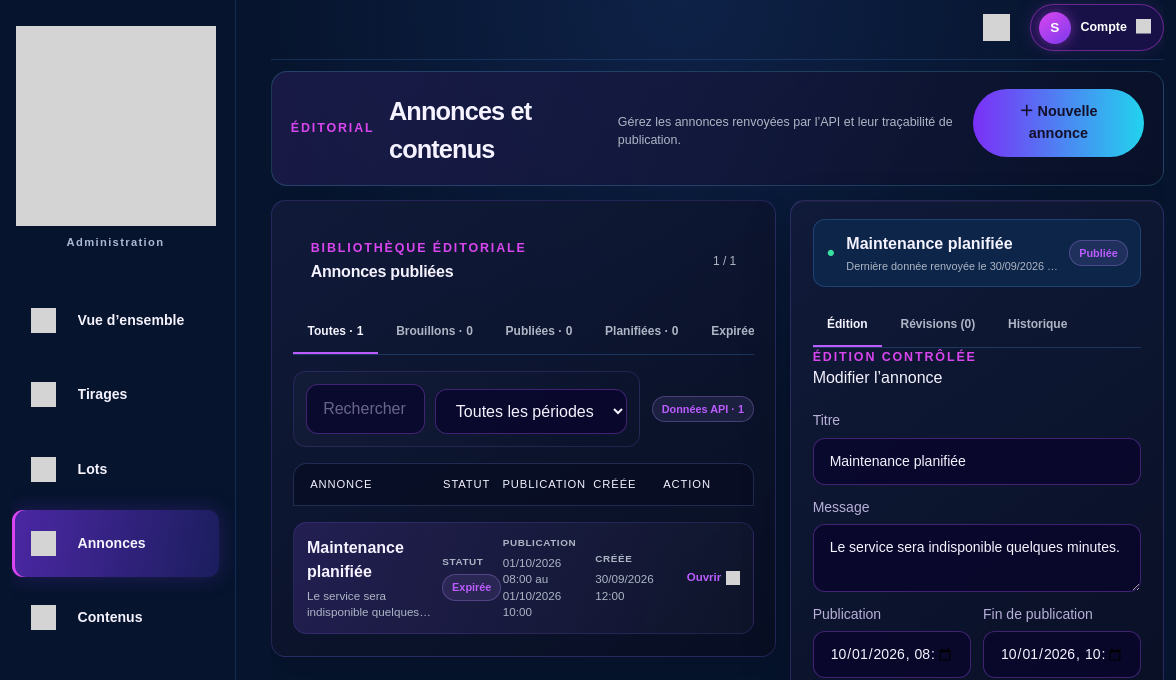
Test: archive une annonce publiée par l’action dédiée
Click the button with aria-label "Ouvrir l’annonce Maintenance planifiée". click: [523, 578]
box: [294,523,753,633]
(page scrolled)
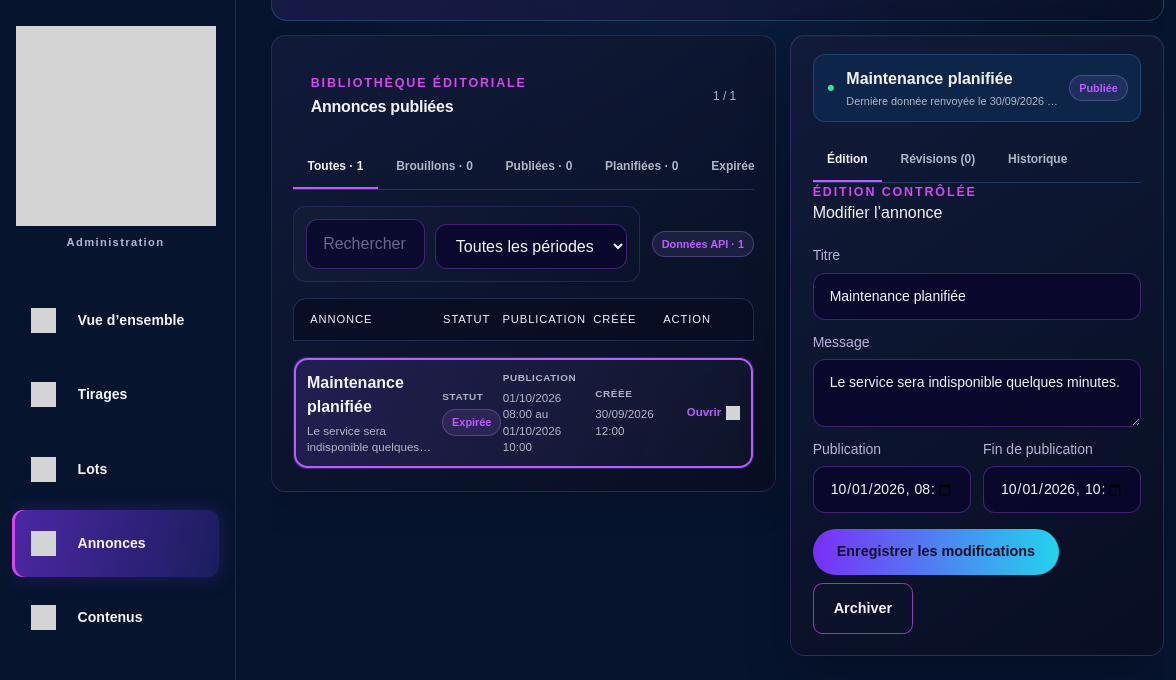
Click the button "Archiver". click: [863, 608]
box: [813,583,913,634]
(page scrolled)
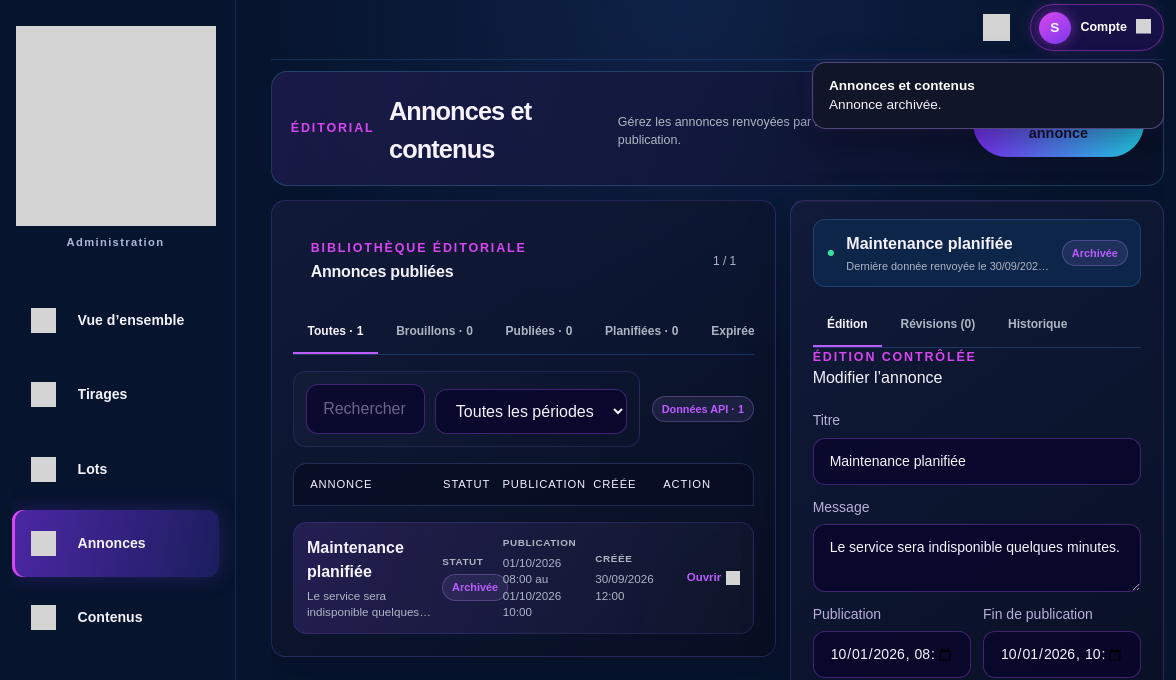
Expected: the text "Annonce archivée." is shown, [829,97,942,112]
